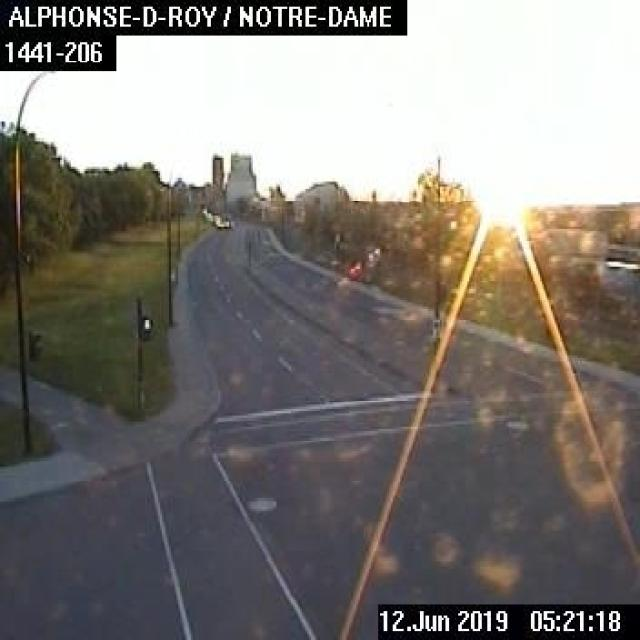vehicle: (214, 214, 232, 228)
